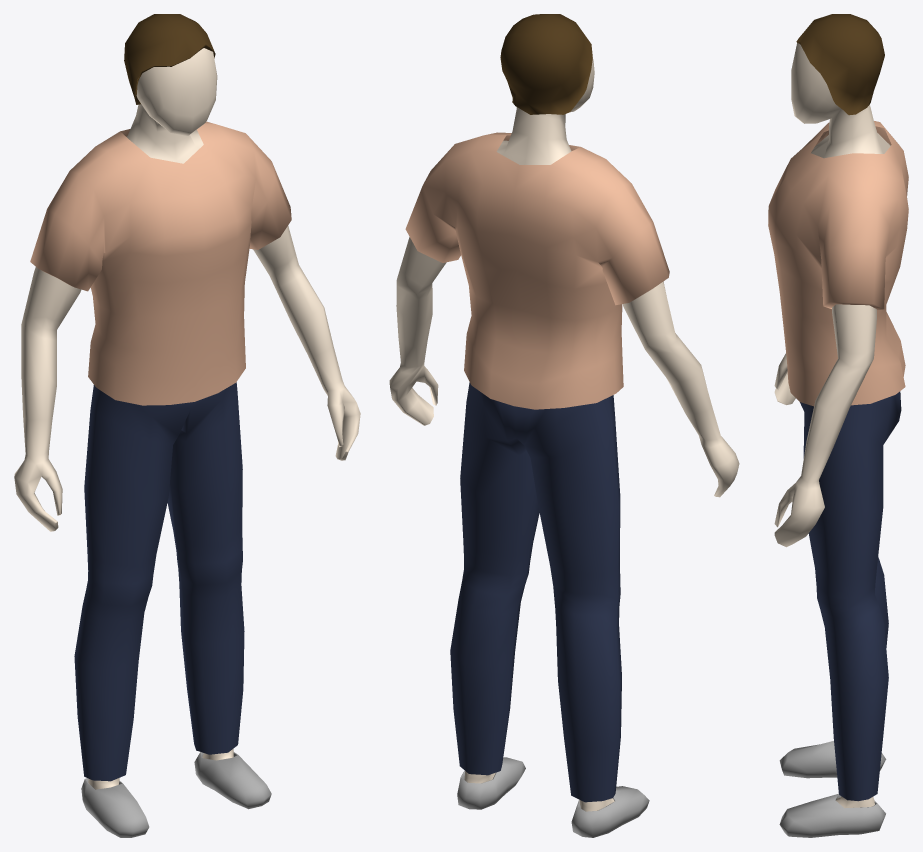
Rendered from Player Model.fbx.
3 renders of one model, left to right at view 1: azimuth 30°, elevation 25°; view 2: azimuth 150°, elevation 25°; view 3: azimuth 270°, elevation 25°, orthographic.
Parts seen in each view (by area): view 1: Pants, Top, Body, Shoes, Hair; view 2: Pants, Top, Body, Hair, Shoes; view 3: Top, Pants, Body, Hair, Shoes.
Boxes of the visible parts, x1=… form: Pants: x1=74, y1=382, x2=244, y2=781; Top: x1=30, y1=121, x2=291, y2=405; Body: x1=14, y1=48, x2=360, y2=789; Shoes: x1=81, y1=752, x2=271, y2=837; Hair: x1=124, y1=14, x2=215, y2=104; Pants: x1=450, y1=382, x2=621, y2=802; Top: x1=405, y1=132, x2=669, y2=409; Body: x1=389, y1=58, x2=739, y2=811; Hair: x1=500, y1=14, x2=592, y2=114; Shoes: x1=457, y1=757, x2=649, y2=837; Top: x1=768, y1=121, x2=908, y2=406; Pants: x1=800, y1=391, x2=901, y2=801; Body: x1=774, y1=43, x2=890, y2=808; Hair: x1=796, y1=14, x2=884, y2=115; Shoes: x1=779, y1=741, x2=886, y2=837.
Size of the model in its own units: 86.01 by 191 by 31.07.
